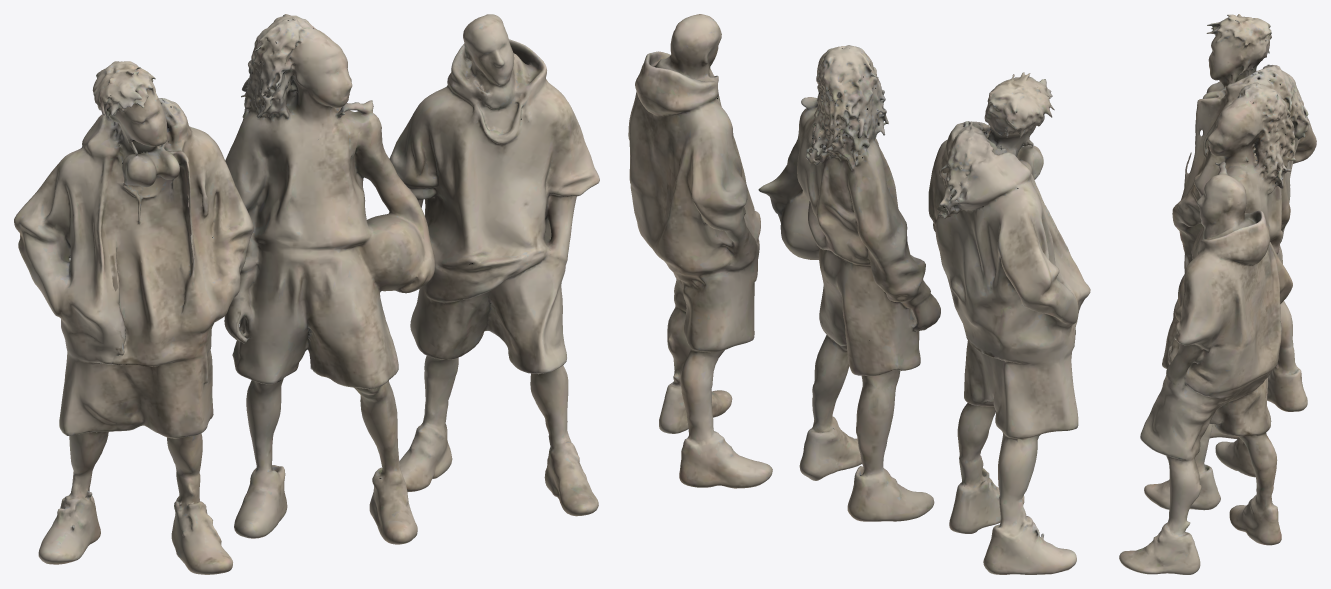
The model's file is crew-m.glb.
3 renders of one model, left to right at view 1: azimuth 30°, elevation 25°; view 2: azimuth 150°, elevation 25°; view 3: azimuth 270°, elevation 25°, orthographic. The views are drawn at different scales.
Visible parts, largest first — view 1: crew; view 2: crew; view 3: crew.
Boxes of the visible parts, <box> form: crew: <box>14,14,599,574</box>; crew: <box>628,14,1090,574</box>; crew: <box>1119,14,1316,574</box>.
Bounding box in the file's own units: 1.08 × 0.9975 × 0.4476.
1 material, 1 textured.
